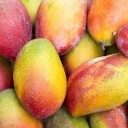mango: (13, 38, 68, 119)
